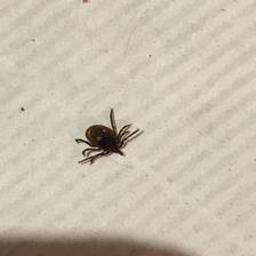Ixodes scapularis: (64, 127, 135, 175)
